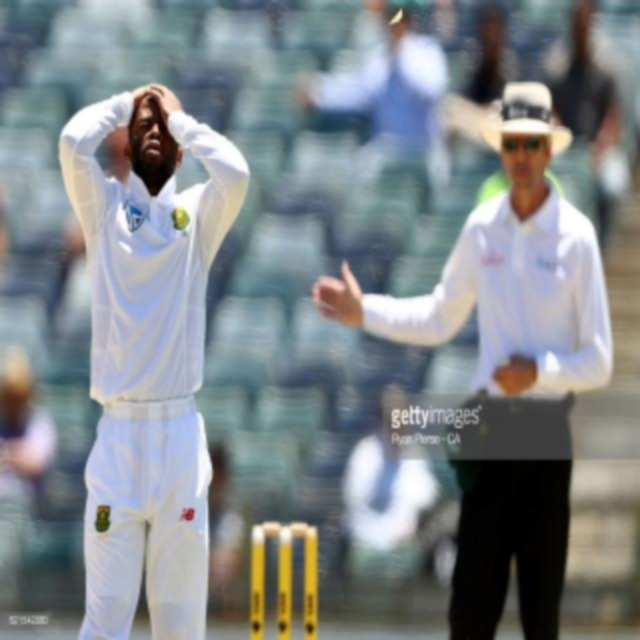No_Ball: (306, 69, 618, 640)
